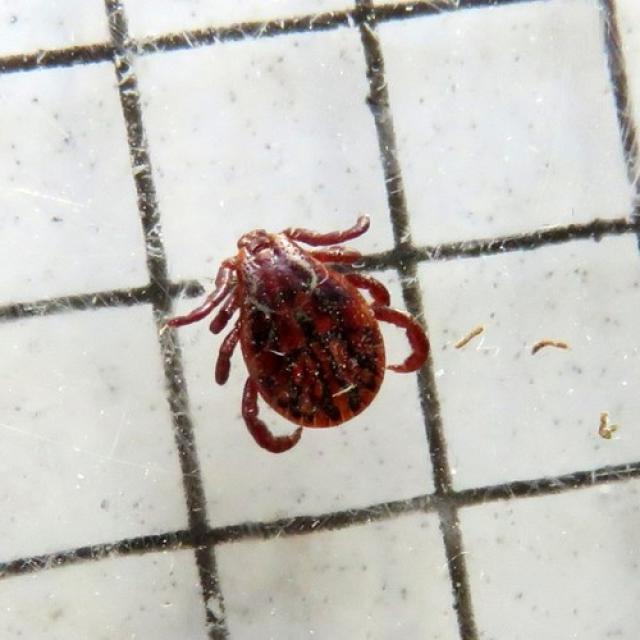Dermacentor Reticulatus-M: (165, 216, 429, 452)
